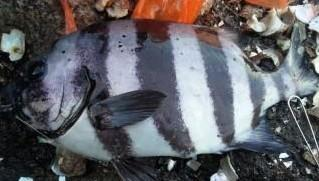fish: (0, 20, 318, 180)
